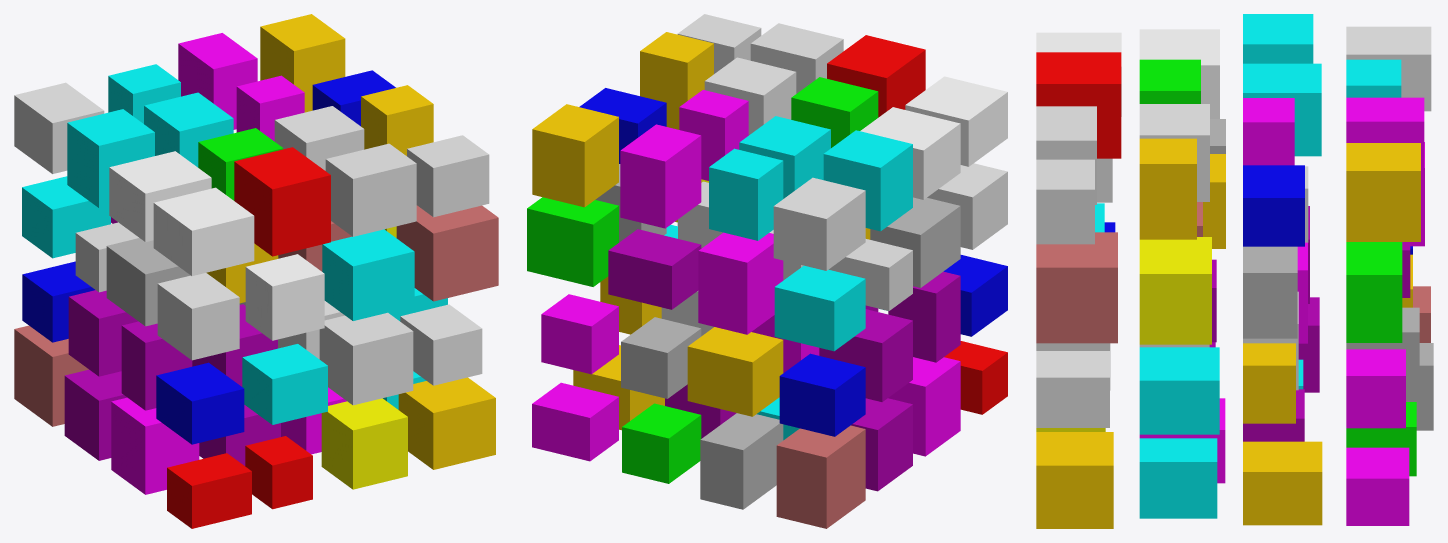
Rendered from boxes_merged.glb.
3 renders of one model, left to right at view 1: azimuth 30°, elevation 25°; view 2: azimuth 150°, elevation 25°; view 3: azimuth 270°, elevation 25°, orthographic. The views are drawn at different scales.
Visible parts, largest first — view 1: node8, node2, node3, node10, node0, node5, node4, node9, node13, node1, node7, node12 (+2 smaller); view 2: node4, node10, node8, node5, node6, node2, node11, node1, node3, node0, node9, node13 (+1 smaller); view 3: node10, node8, node4, node2, node11, node9, node6, node13, node12, node0, node3, node1 (+2 smaller).
Part boxes in pixels (<box>): node8: <box>22,64,447,424</box>; node2: <box>14,82,482,385</box>; node3: <box>109,151,324,340</box>; node10: <box>206,14,495,469</box>; node0: <box>167,147,330,528</box>; node5: <box>64,290,280,465</box>; node4: <box>111,33,346,494</box>; node9: <box>14,205,498,426</box>; node13: <box>325,135,489,236</box>; node1: <box>22,70,395,444</box>; node7: <box>75,222,413,405</box>; node12: <box>321,226,407,489</box>; node4: <box>532,90,960,461</box>; node10: <box>532,32,870,430</box>; node8: <box>664,116,912,440</box>; node5: <box>608,229,960,491</box>; node6: <box>595,164,960,509</box>; node2: <box>661,57,1007,336</box>; node11: <box>527,77,878,483</box>; node1: <box>579,88,1007,436</box>; node3: <box>860,76,1007,199</box>; node0: <box>827,35,1007,414</box>; node9: <box>776,425,865,528</box>; node13: <box>677,14,843,93</box>; node10: <box>1036,138,1420,528</box>; node8: <box>1095,14,1401,518</box>; node4: <box>1139,97,1424,525</box>; node2: <box>1036,26,1431,427</box>; node11: <box>1139,59,1416,476</box>; node9: <box>1036,202,1430,343</box>; node6: <box>1210,119,1433,430</box>; node13: <box>1036,106,1096,244</box>; node12: <box>1036,237,1211,431</box>; node0: <box>1036,52,1121,158</box>; node3: <box>1036,29,1219,118</box>; node1: <box>1104,165,1412,254</box>.
Size of the model in its own units: 3.84 by 3.81 by 3.85.
